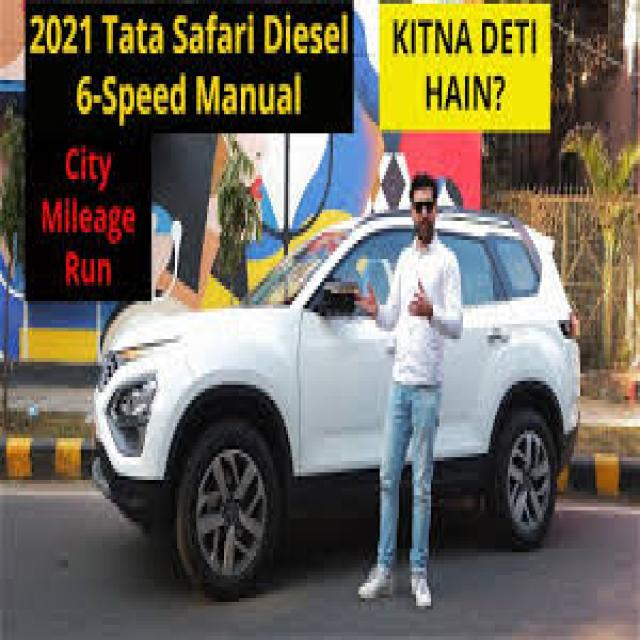cars: (74, 182, 594, 616)
